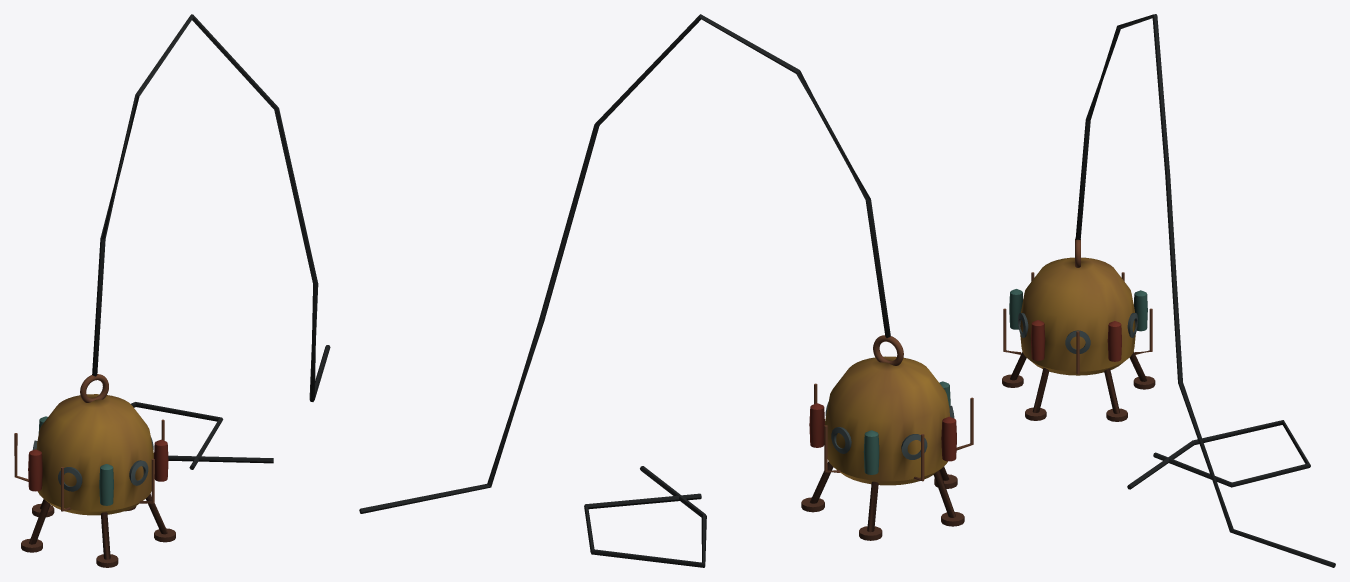
The model's file is bell.glb.
The picture shows the model from 3 angles, left to right: view 1: azimuth 30°, elevation 25°; view 2: azimuth 150°, elevation 25°; view 3: azimuth 270°, elevation 25°; orthographic projection. The views are drawn at different scales.
Visible parts, largest first — view 1: bell; view 2: bell; view 3: bell.
Boxes of the visible parts, x1,y1,x2,y2 form: bell: [14, 14, 330, 567]; bell: [359, 14, 973, 567]; bell: [1002, 14, 1335, 567].
Bounding box in the file's own units: 19.2 × 19.17 × 13.02.
